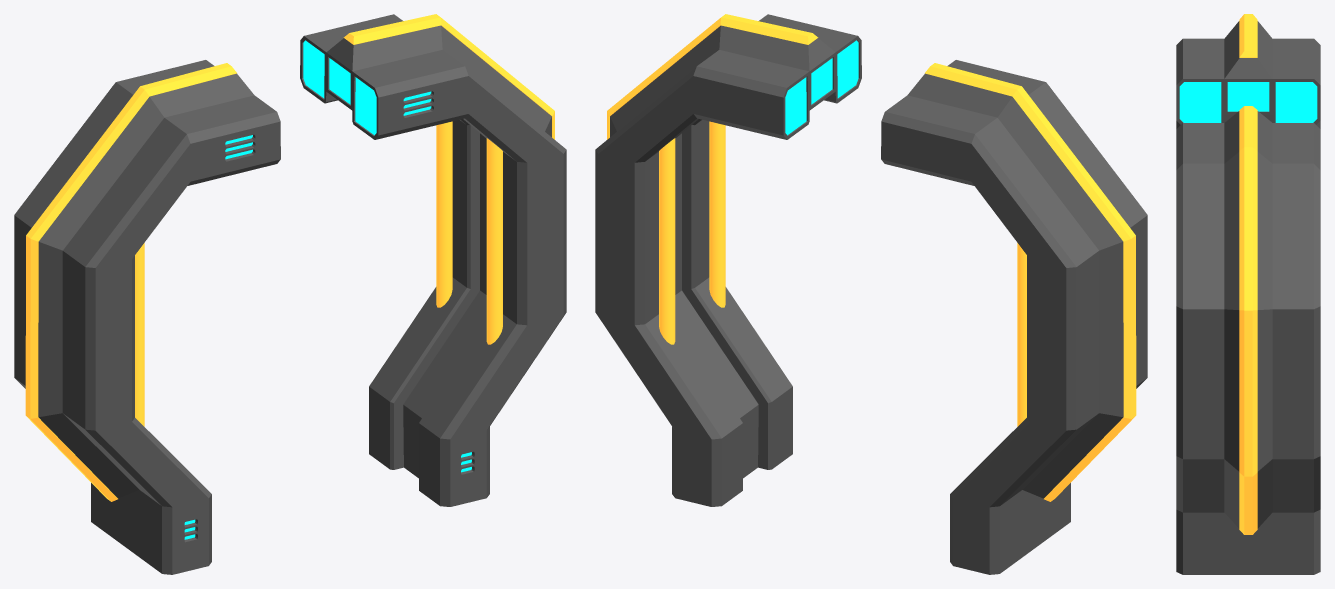
The model's file is Gate.fbx.
The picture shows the model from 3 angles, left to right: view 1: azimuth 30°, elevation 25°; view 2: azimuth 150°, elevation 25°; view 3: azimuth 270°, elevation 25°; orthographic projection. The views are drawn at different scales.
Parts seen in each view (by area): view 1: Cube, Cube.002, NurbsPath, Cube.004, Cube.003; view 2: Cube, Cube.002, NurbsPath, Cube.004; view 3: Cube, Cube.002, Cube.004.
Boxes of the visible parts, left/top/right/bottom form: Cube: left=14, top=14, right=566, bottom=574; Cube.002: left=25, top=14, right=554, bottom=501; NurbsPath: left=135, top=121, right=502, bottom=426; Cube.004: left=303, top=40, right=376, bottom=135; Cube.003: left=184, top=91, right=471, bottom=539; Cube: left=595, top=14, right=1147, bottom=574; Cube.002: left=607, top=14, right=1136, bottom=501; NurbsPath: left=659, top=121, right=1026, bottom=426; Cube.004: left=785, top=40, right=858, bottom=135; Cube: left=1176, top=21, right=1320, bottom=574; Cube.002: left=1239, top=14, right=1257, bottom=534; Cube.004: left=1179, top=82, right=1317, bottom=122.
Bounding box in the file's own units: 673 × 562 × 174.
